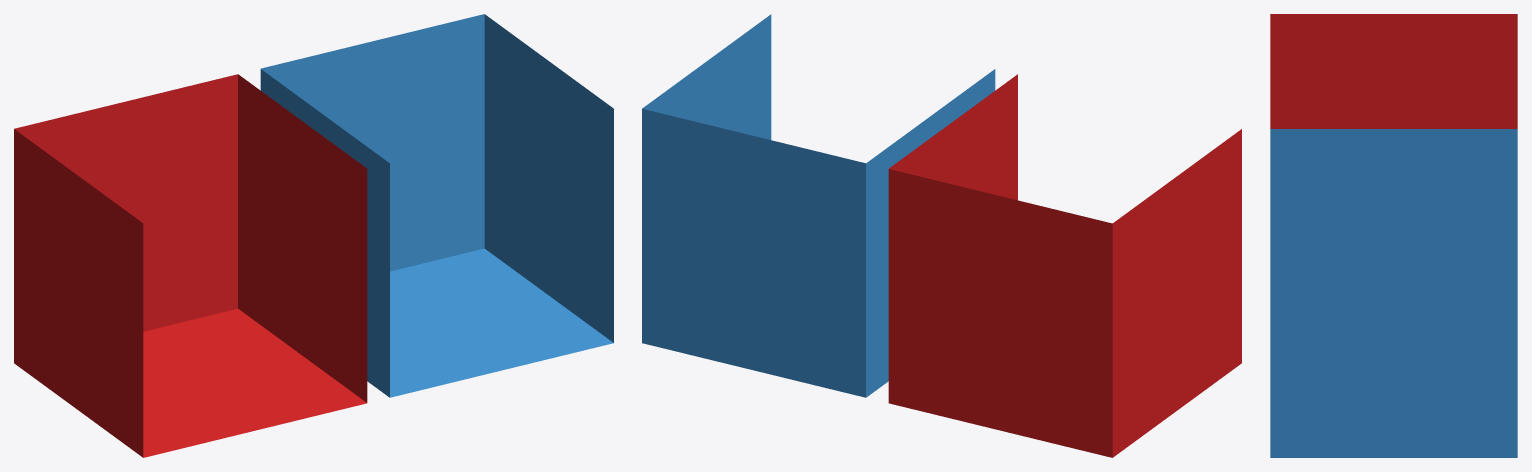
The model's file is two-lights.gltf.
3 renders of one model, left to right at view 1: azimuth 30°, elevation 25°; view 2: azimuth 150°, elevation 25°; view 3: azimuth 270°, elevation 25°, orthographic. The views are drawn at different scales.
Parts seen in each view (by area): view 1: back2, right2, left1, right1, back1, bottom1, bottom2, left2; view 2: back1, back2, left1, right2, right1, left2; view 3: right2, left1, left2, right1.
Boxes of the visible parts, left/top/right/bottom form: back2: left=261, top=14, right=484, bottom=271; right2: left=484, top=14, right=613, bottom=342; left1: left=14, top=129, right=143, bottom=457; right1: left=238, top=74, right=367, bottom=402; back1: left=14, top=74, right=237, bottom=331; bottom1: left=143, top=308, right=366, bottom=457; bottom2: left=390, top=248, right=613, bottom=397; left2: left=260, top=69, right=389, bottom=397; back1: left=888, top=169, right=1112, bottom=457; back2: left=642, top=108, right=865, bottom=397; left1: left=1112, top=129, right=1241, bottom=457; right2: left=642, top=14, right=771, bottom=139; right1: left=889, top=74, right=1017, bottom=200; left2: left=866, top=69, right=995, bottom=397; right2: left=1270, top=233, right=1517, bottom=457; left1: left=1270, top=14, right=1517, bottom=118; left2: left=1270, top=129, right=1517, bottom=233; right1: left=1270, top=118, right=1517, bottom=128.
Size of the model in its own units: 4.2 by 2 by 2.
